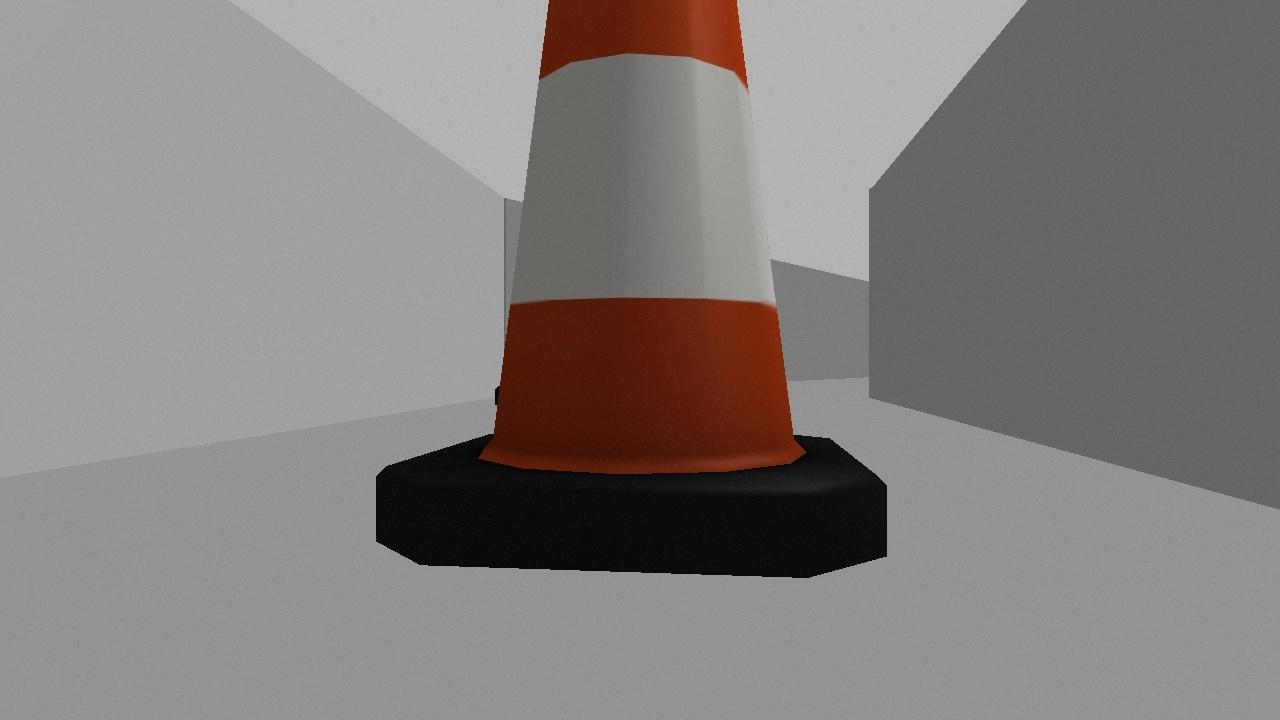cone_barrel: (370, 0, 891, 581)
